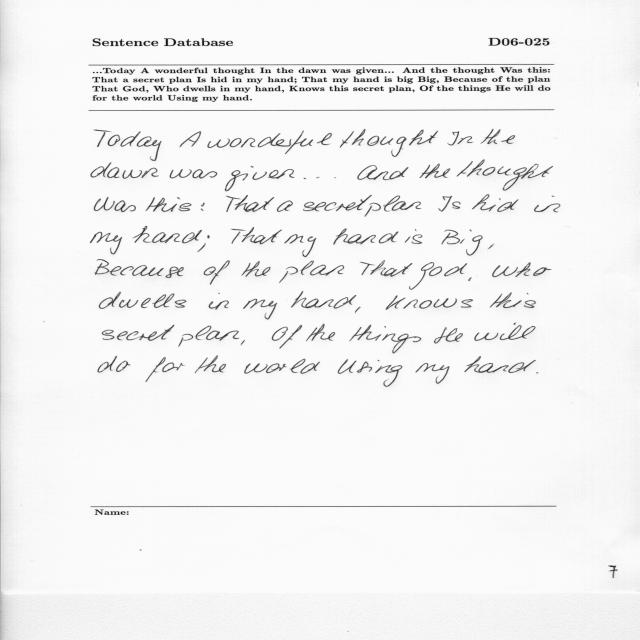word: (457, 161, 553, 191), (207, 131, 332, 154), (340, 129, 438, 157), (350, 325, 422, 353), (338, 359, 402, 387), (225, 166, 294, 191), (409, 262, 467, 290), (95, 260, 184, 278), (99, 292, 187, 309), (279, 261, 344, 283), (386, 295, 473, 310), (178, 326, 239, 347), (121, 131, 162, 161), (464, 356, 536, 373), (365, 196, 422, 217), (133, 227, 202, 244), (91, 162, 159, 179), (102, 325, 174, 341), (244, 359, 320, 374), (333, 228, 399, 245), (480, 129, 515, 161), (291, 292, 356, 309), (303, 195, 372, 211), (475, 323, 536, 341), (146, 357, 185, 382), (492, 262, 552, 277), (360, 260, 412, 277), (231, 227, 282, 244), (472, 194, 518, 212), (226, 195, 274, 212), (358, 165, 409, 180), (285, 234, 317, 257), (490, 292, 536, 308), (243, 299, 277, 320), (416, 363, 450, 384), (90, 232, 122, 254), (146, 197, 192, 212), (272, 325, 302, 348), (203, 260, 230, 285), (94, 197, 136, 212), (98, 356, 131, 373), (195, 356, 226, 373), (306, 324, 335, 342), (434, 327, 463, 344), (241, 261, 271, 277), (94, 129, 120, 147), (534, 196, 561, 213), (420, 164, 450, 179), (442, 230, 472, 245), (170, 169, 217, 178), (448, 131, 474, 146), (466, 235, 483, 256), (209, 293, 229, 310), (180, 132, 201, 148), (439, 196, 461, 211), (405, 229, 423, 244), (197, 235, 210, 252), (277, 200, 293, 212), (304, 177, 336, 179), (355, 307, 361, 313), (201, 203, 205, 211), (488, 244, 493, 249), (241, 340, 245, 345), (469, 277, 472, 281), (536, 372, 538, 374)
